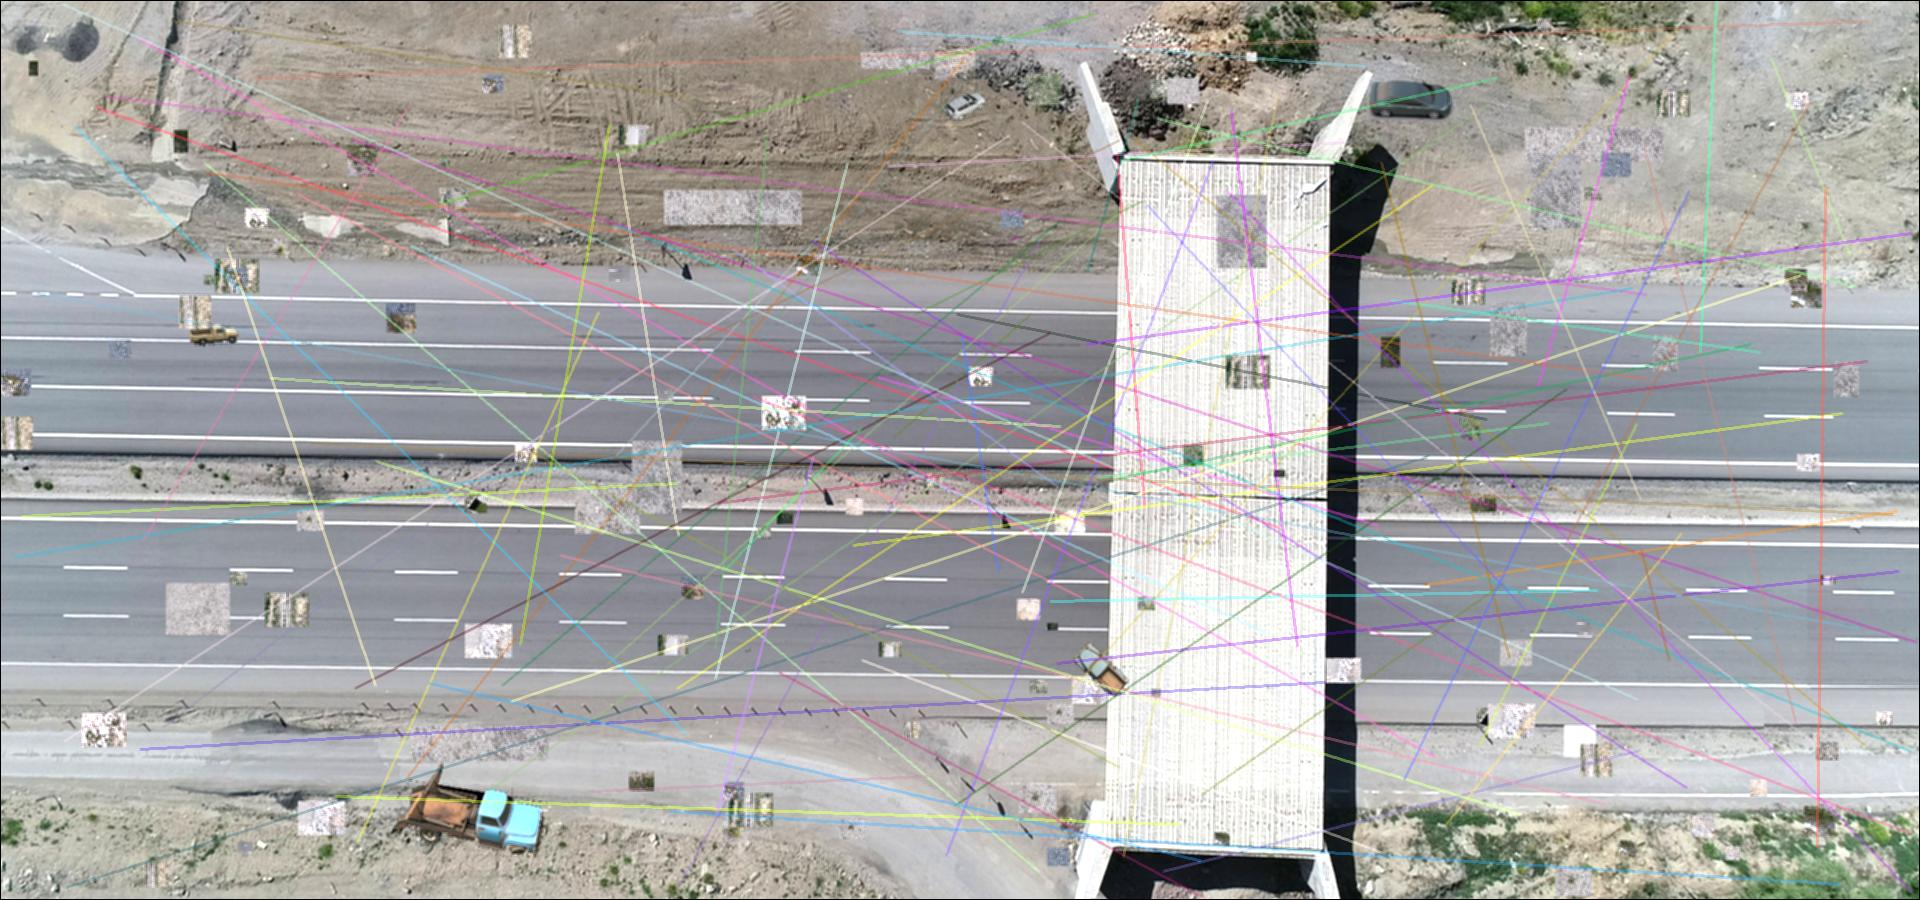arac: (397, 763, 547, 858), (1368, 80, 1455, 122), (1073, 643, 1129, 696), (945, 91, 984, 121), (189, 323, 239, 347)
